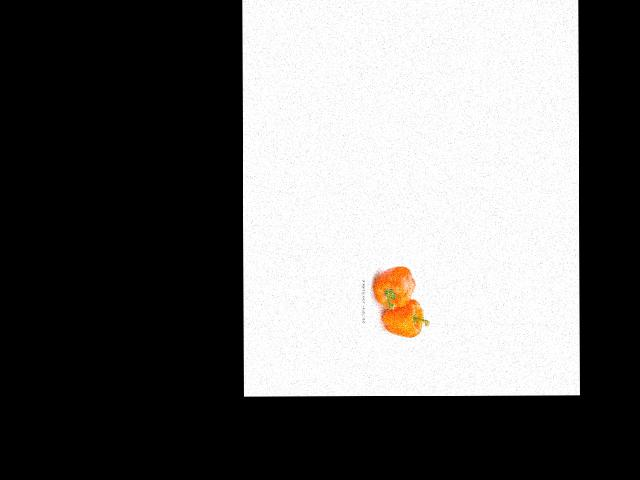bell_pepper: (369, 265, 416, 311)
